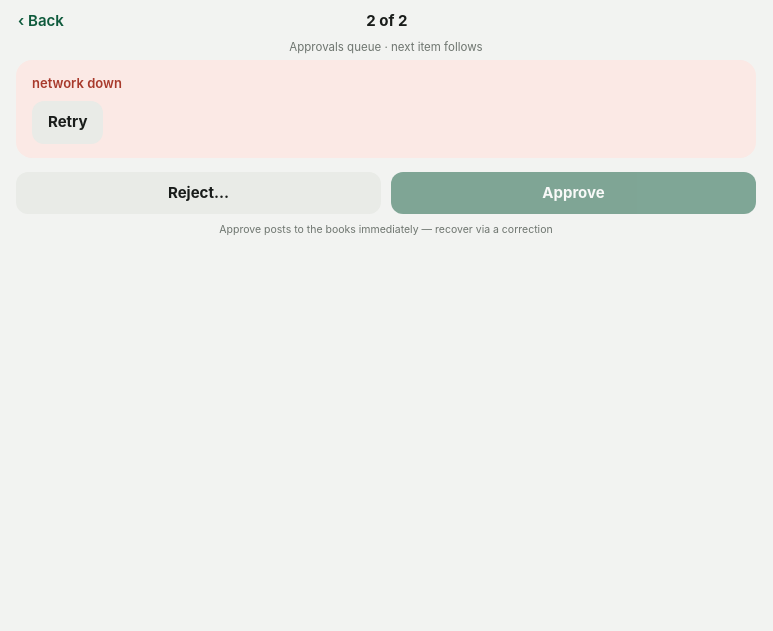
Test case: ApprovalScreen › shows a LoadError and disables Approve when the expense fetch fails — no blind approve
This screenshot has width=773, height=631.
Expected: the text "network down" is shown, [32,75,122,91]
Expected: the button "Approve" is disabled, [391,172,756,214]
Click the button "Retry" at (68, 123), box [32,101,104,144]
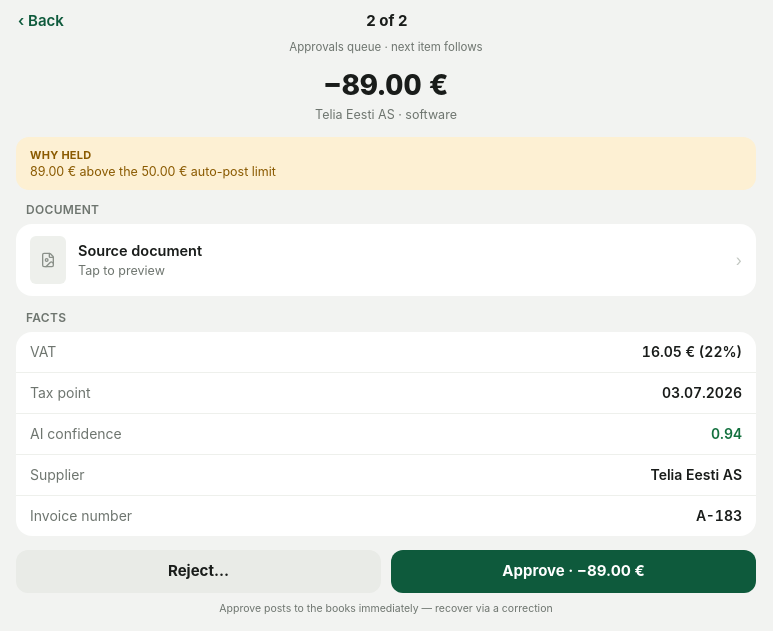
Expected: the text "−89.00 €" is shown, [324,68,448,102]
Expected: the button "Approve · −89.00 €" is enabled, [391,550,756,593]
